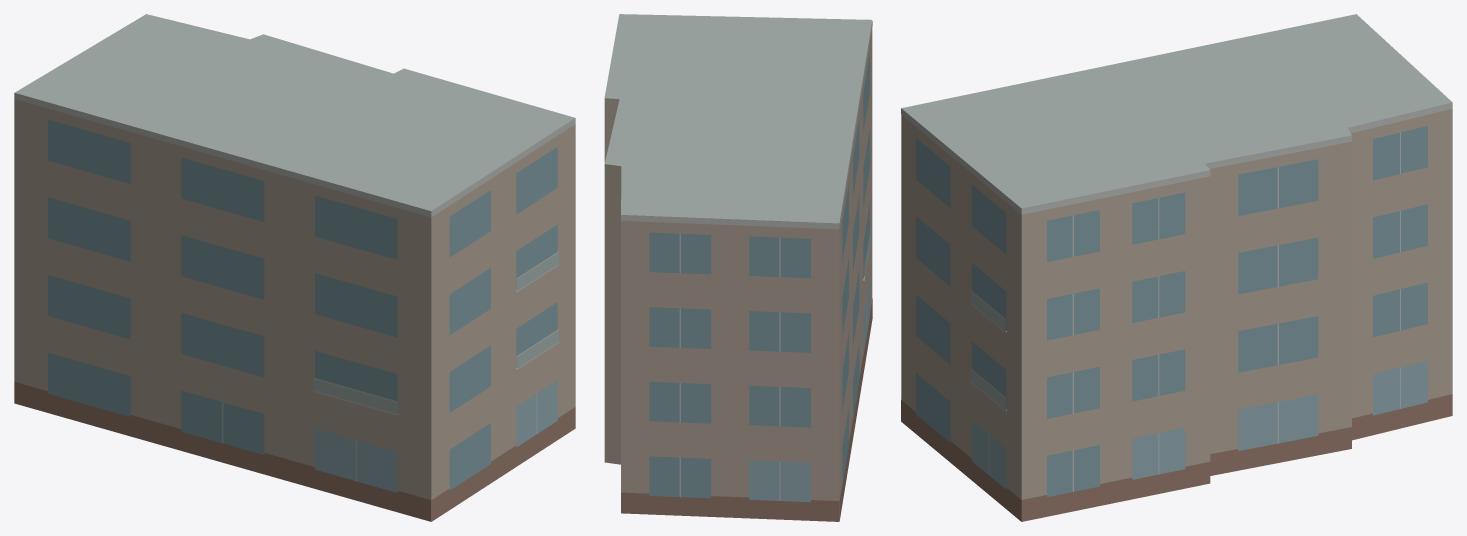
The model's file is survey-upis-32917090.glb.
3 renders of one model, left to right at view 1: azimuth 30°, elevation 25°; view 2: azimuth 150°, elevation 25°; view 3: azimuth 270°, elevation 25°, orthographic. The views are drawn at different scales.
Parts seen in each view (by area): view 1: survey-upis-32917090.tmp; view 2: survey-upis-32917090.tmp; view 3: survey-upis-32917090.tmp.
Boxes of the visible parts, bbox=[...] form: survey-upis-32917090.tmp: bbox=[14, 14, 575, 521]; survey-upis-32917090.tmp: bbox=[604, 14, 872, 521]; survey-upis-32917090.tmp: bbox=[901, 14, 1452, 521].
Bounding box in the file's own units: 16.25 × 12.2 × 19.47.
